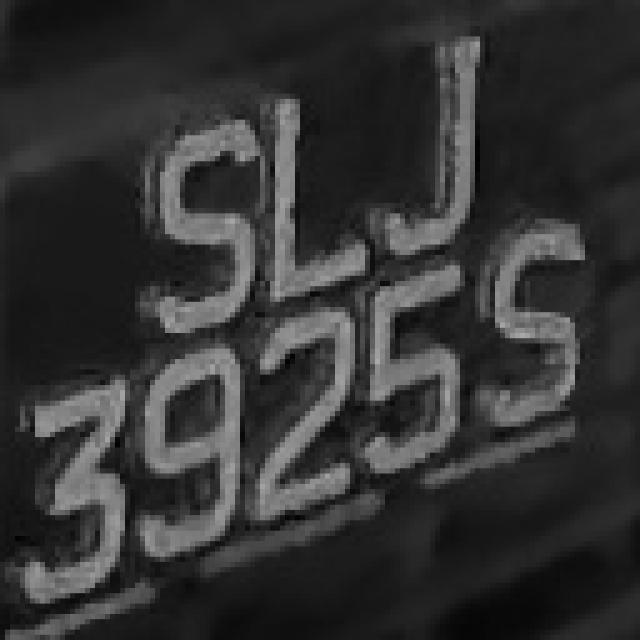2: (230, 302, 370, 525)
3: (15, 354, 130, 609)
5: (350, 255, 485, 499)
9: (135, 338, 265, 578)
J: (365, 5, 500, 260)
L: (250, 73, 380, 307)
S: (125, 125, 255, 343), (475, 213, 600, 437)
